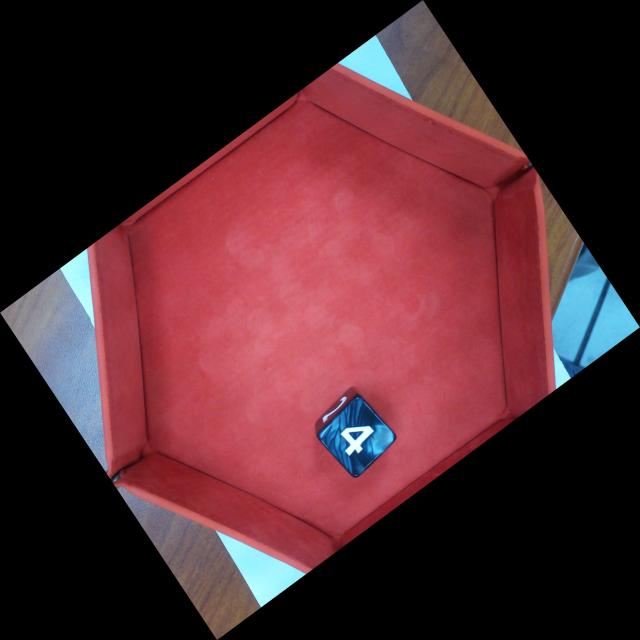dice: (325, 401, 400, 480)
